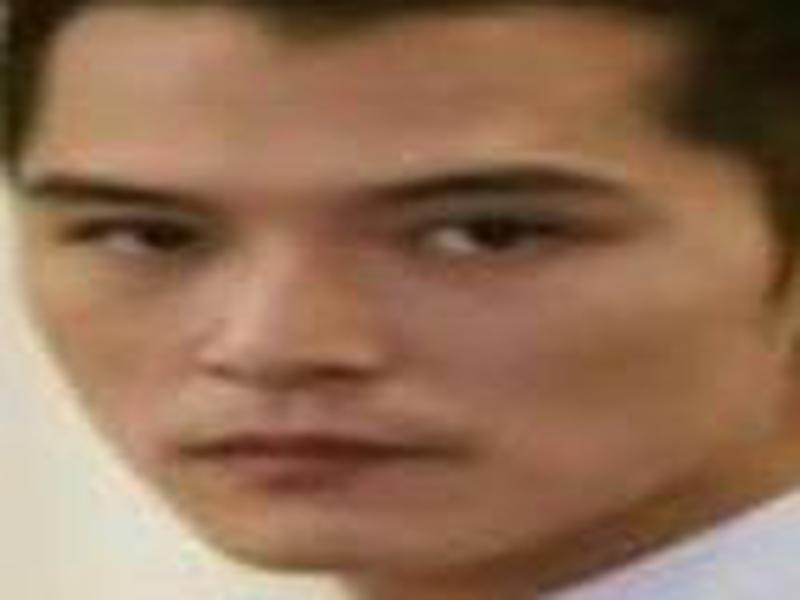without_mask: (16, 12, 753, 580)
